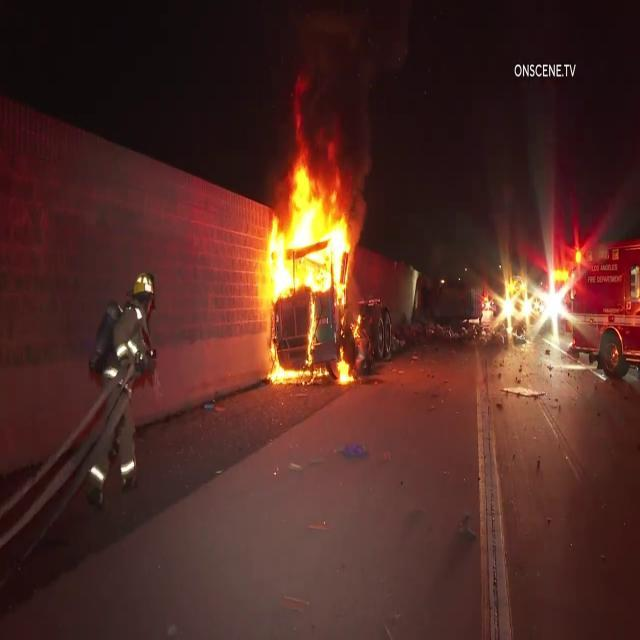Fire: (252, 155, 366, 385)
Smoke: (284, 1, 381, 200)
